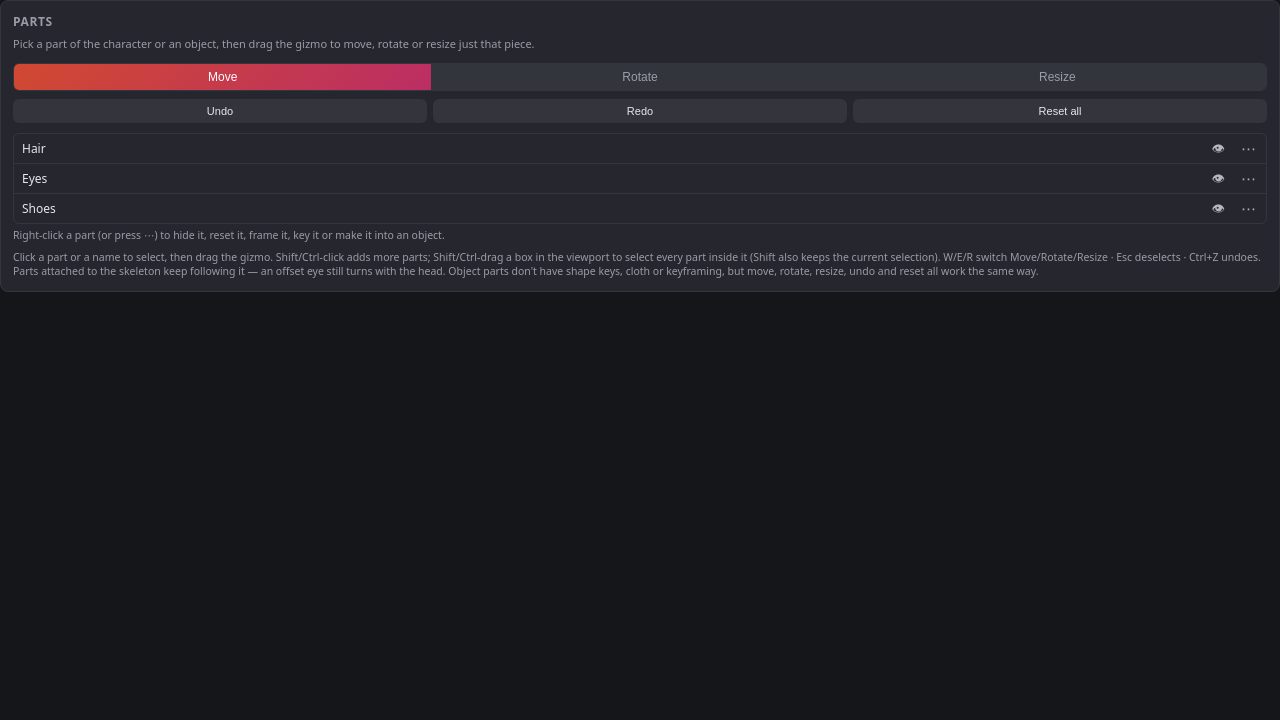
Scenario: Parts panel: colour › shows the primary part's colour in the picker
The width and height of the screenshot is (1280, 720).
Click the text "Eyes": {"x": 640, "y": 178} [14,164,1266,194]
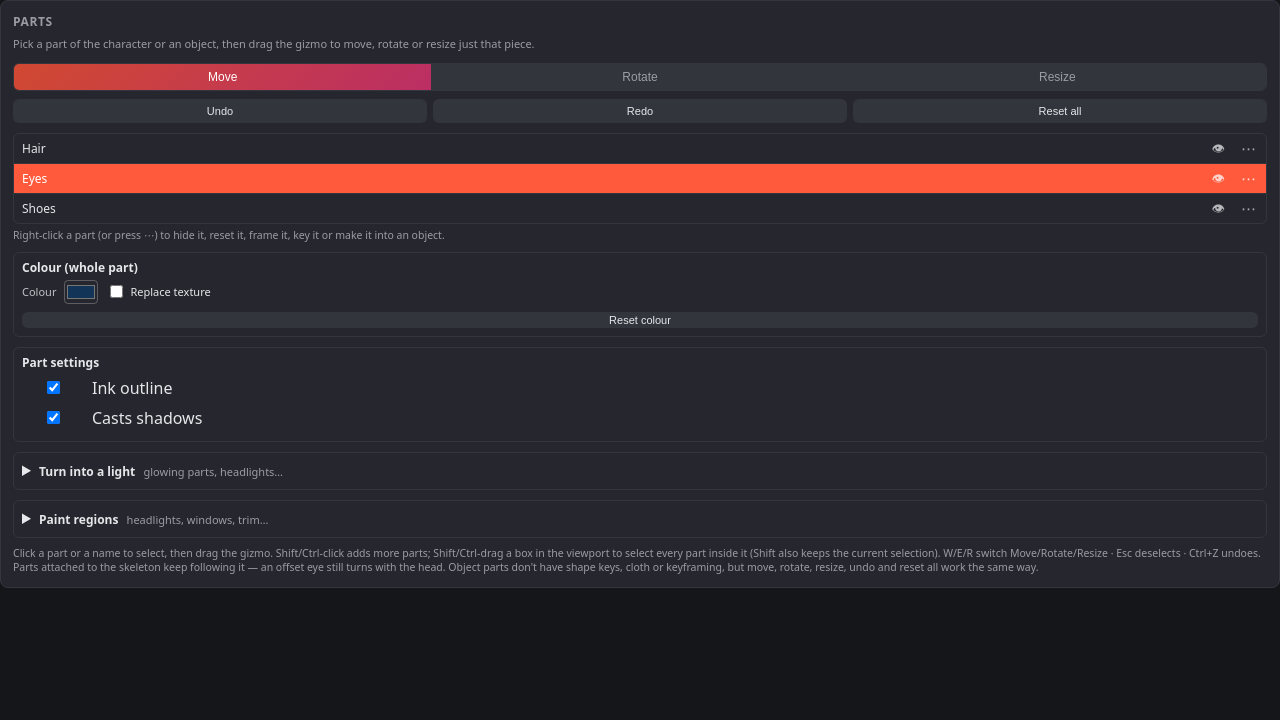
expect the colour field named "Colour" holds "#123456": met, box [64,280,98,304]
